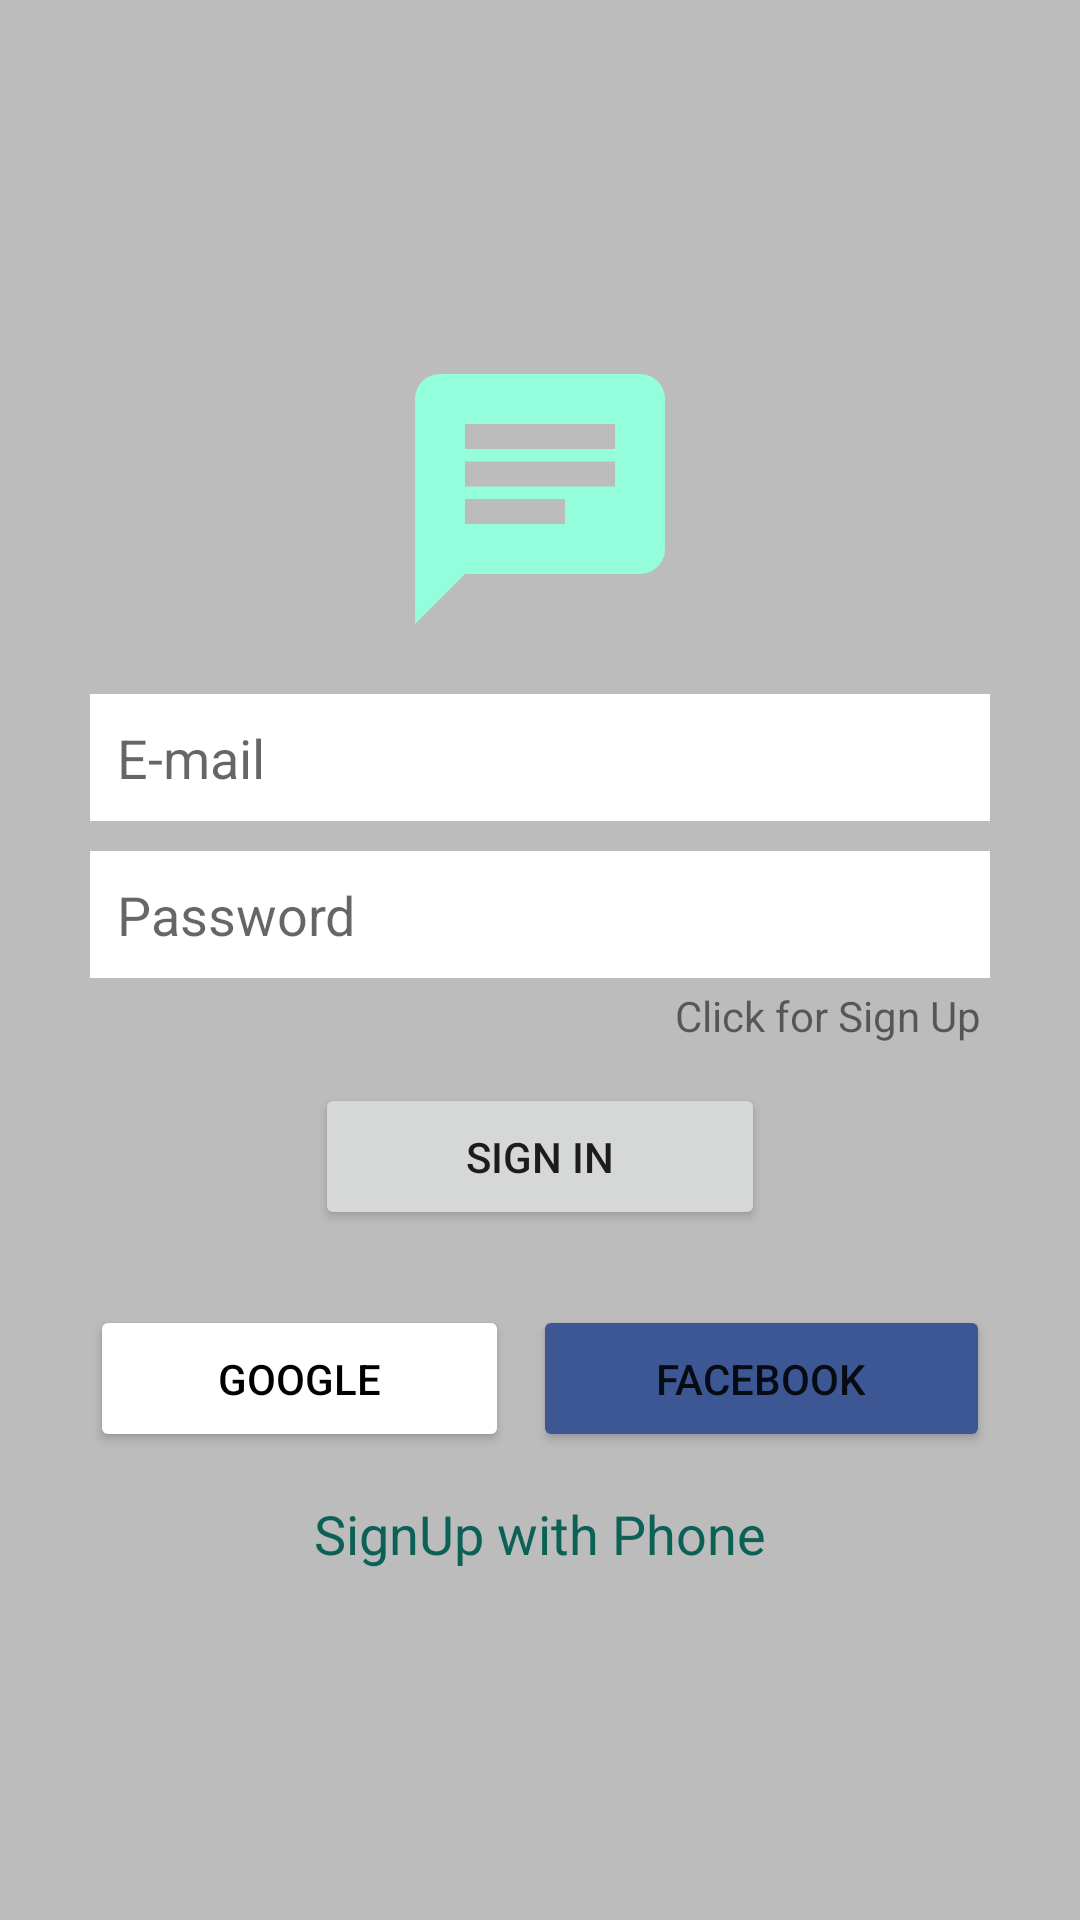

Icon click points for this 1080 x 1920 phone screenshot, format [x,y]:
chat: [540,499]
